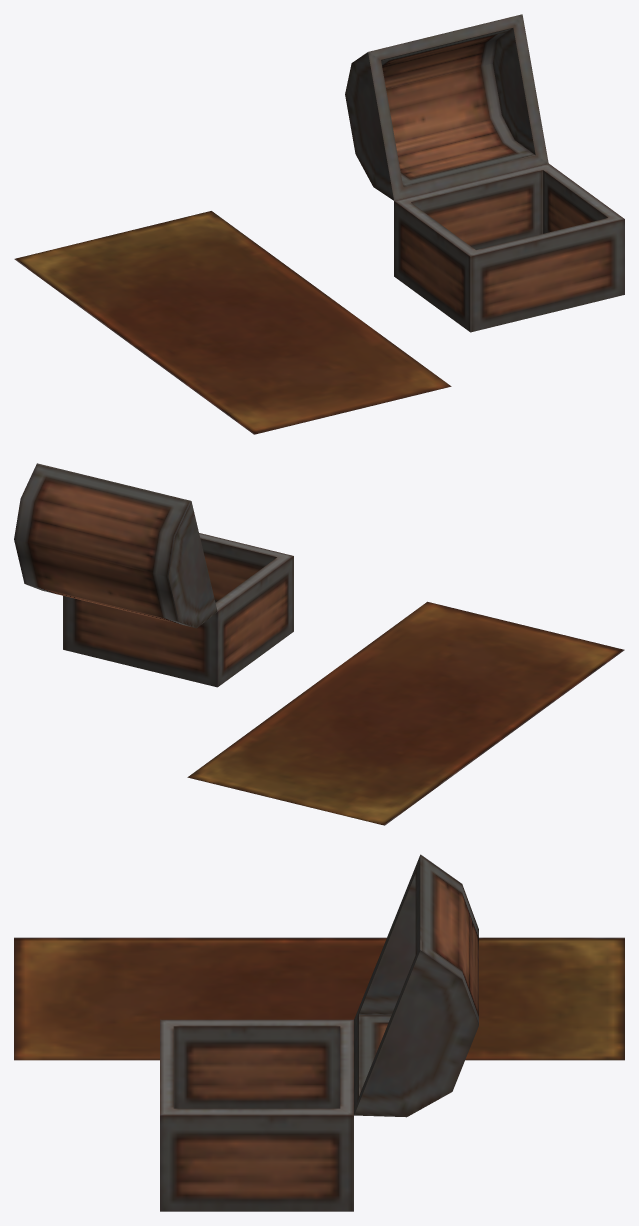
Rendered from 2_YiZhan_BaoXiangDiTan_01.FBX.
The picture shows the model from 3 angles, top to bottom: view 1: azimuth 30°, elevation 25°; view 2: azimuth 150°, elevation 25°; view 3: azimuth 270°, elevation 25°; orthographic projection. The views are drawn at different scales.
Parts seen in each view (by area): view 1: 2_YiZhan_BaoXiangi_01, 2_YiZhan_DiTani_01; view 2: 2_YiZhan_DiTani_01, 2_YiZhan_BaoXiangi_01; view 3: 2_YiZhan_BaoXiangi_01, 2_YiZhan_DiTani_01.
Part boxes in pixels (<box>): 2_YiZhan_BaoXiangi_01: <box>345,14,624,332</box>; 2_YiZhan_DiTani_01: <box>14,211,451,434</box>; 2_YiZhan_DiTani_01: <box>187,601,624,825</box>; 2_YiZhan_BaoXiangi_01: <box>14,463,293,687</box>; 2_YiZhan_BaoXiangi_01: <box>160,854,478,1211</box>; 2_YiZhan_DiTani_01: <box>14,937,624,1060</box>.
Size of the model in its own units: 346 by 159 by 336.
Materials: 1 (1 with a texture image).
